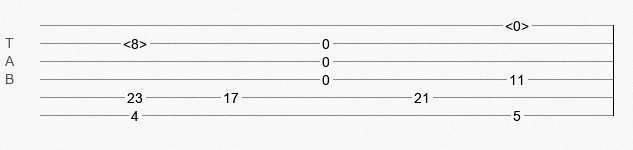0: (322, 36, 330, 46), (322, 72, 330, 82), (322, 54, 330, 64)
11: (509, 72, 525, 82)
17: (223, 90, 239, 100)
21: (414, 90, 430, 100)
23: (127, 90, 143, 100)
4: (131, 108, 139, 118)
5: (513, 108, 521, 118)
harmonic: (123, 36, 147, 46), (505, 18, 529, 28)
